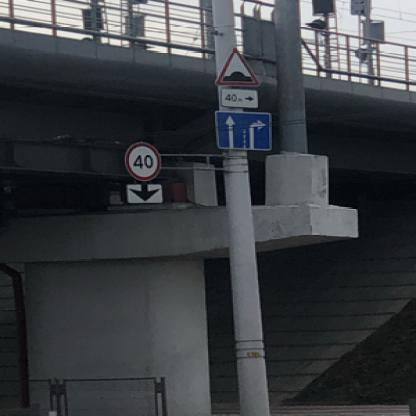speedlimit: (123, 141, 158, 180)
